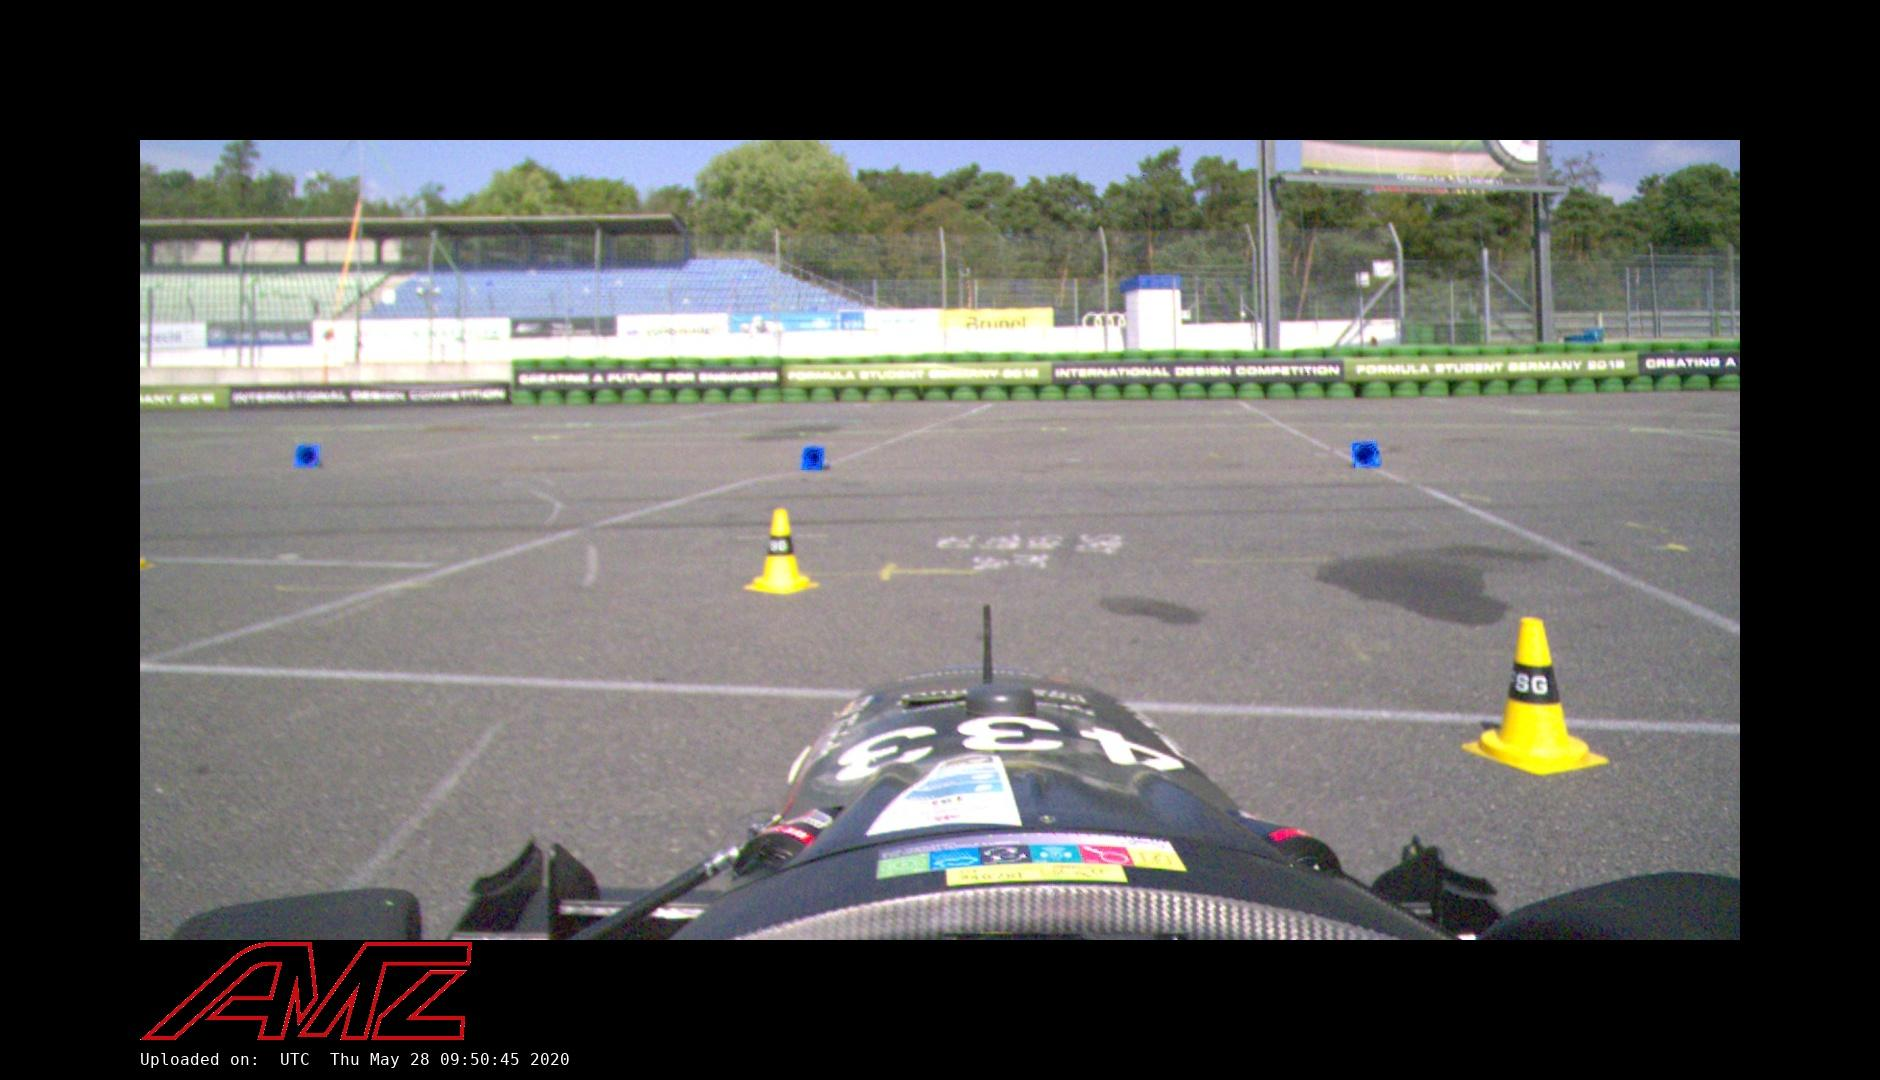blue_cone: (1350, 440, 1381, 468), (799, 446, 831, 471), (292, 443, 321, 468)
yellow_cone: (1460, 616, 1609, 774), (744, 508, 821, 595)
